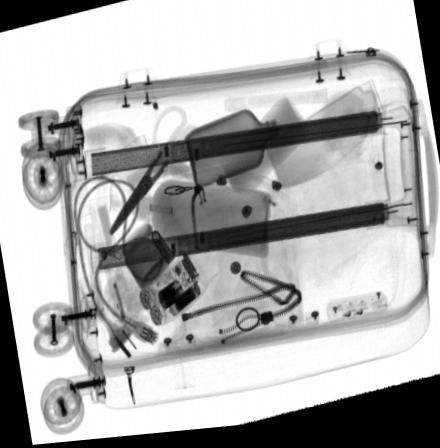Scissors: (107, 106, 207, 244)
